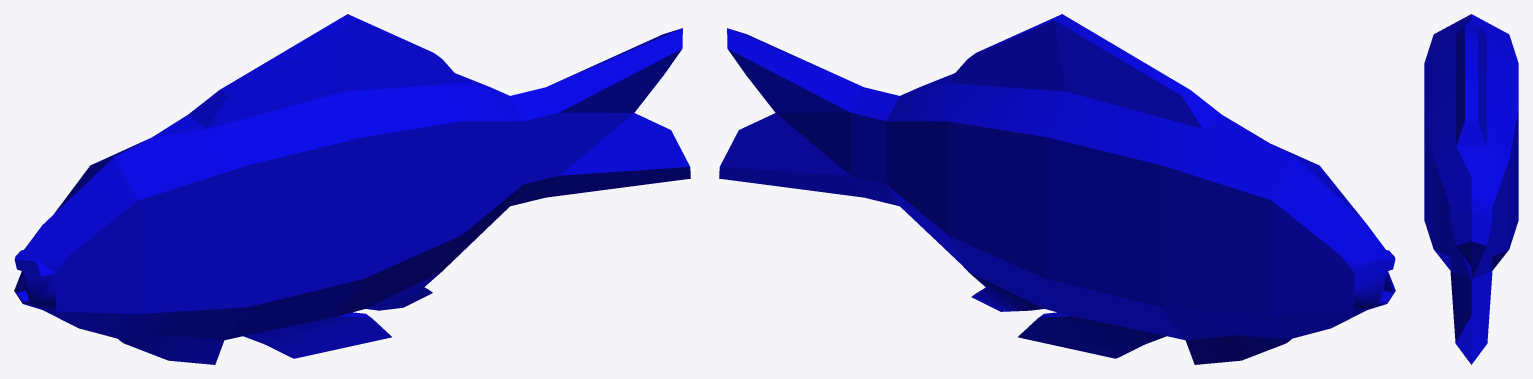
Rendered from fish.fbx.
3 views of the same model, side by side, from view 1: azimuth 30°, elevation 25°; view 2: azimuth 150°, elevation 25°; view 3: azimuth 270°, elevation 25° (orthographic). The views are drawn at different scales.
Visible parts, largest first — view 1: fish; view 2: fish; view 3: fish.
Part boxes in pixels (<box>): fish: <box>14,14,690,364</box>; fish: <box>719,14,1395,364</box>; fish: <box>1424,14,1518,364</box>.
Bounding box in the file's own units: 15.03 × 6.97 × 2.3.
